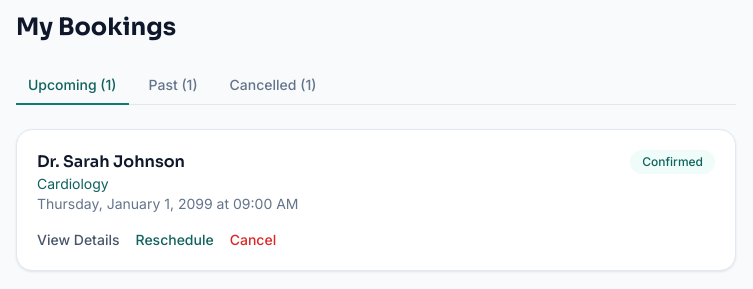
MyBookings › splits bookings into Upcoming, Past, and Cancelled tabs
This screenshot has width=753, height=289.
Expected: the text "Dr. Sarah Johnson" is shown, [37,151,185,172]
Expected: the tab "Upcoming (1)" is shown, [16,67,128,105]
Step 1. Click the tab "Past (1)" → (173, 86), box [136,67,210,105]
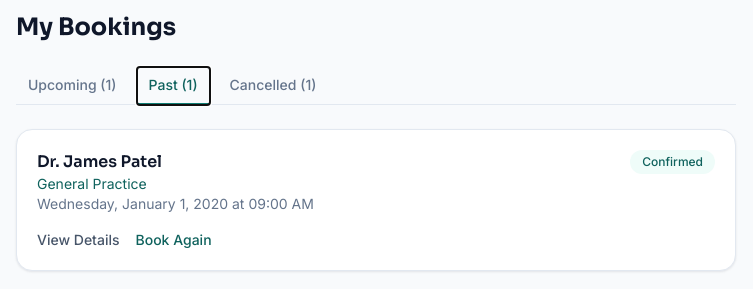
Expected: the text "Dr. James Patel" is shown, [37,151,162,172]
Expected: the text "Dr. Sarah Johnson" is gone
Step 2. Click the tab "Cancelled (1)" → (273, 86), box [218,67,328,105]
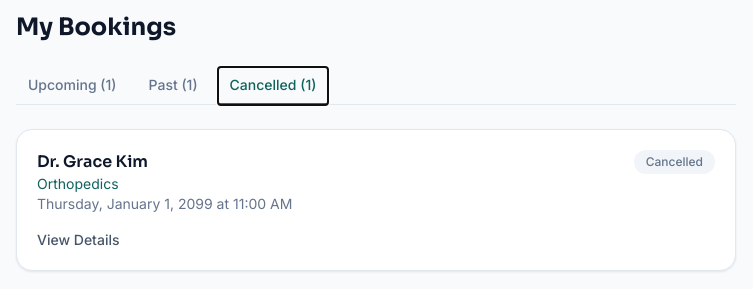
Expected: the text "Dr. Grace Kim" is shown, [37,151,148,172]
